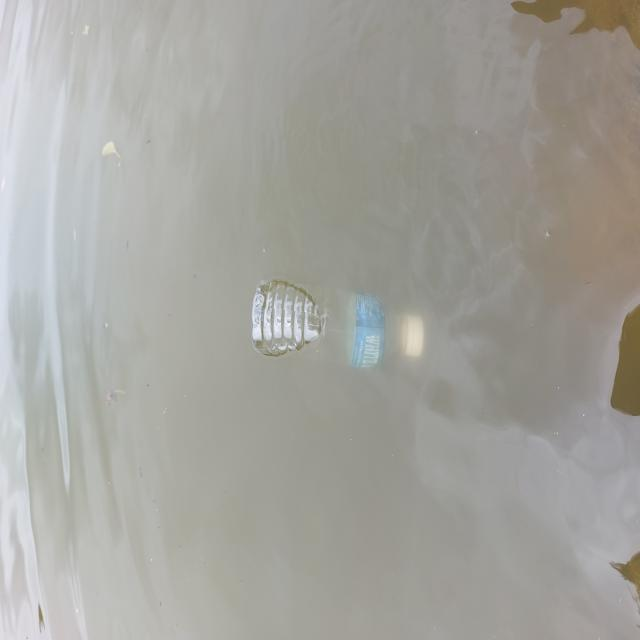waterbottle: (238, 284, 444, 392)
